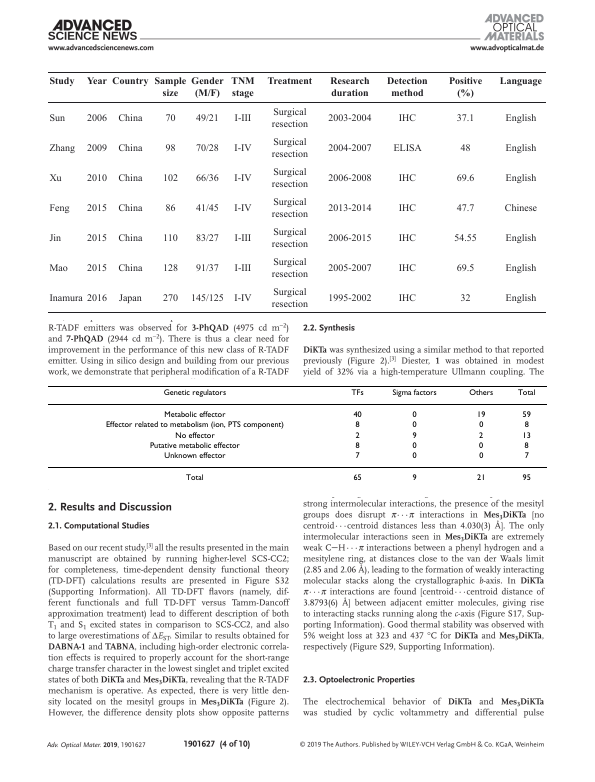borderless: (47, 71, 546, 312), (46, 384, 548, 491)
cell: (104, 421, 284, 431), (386, 77, 428, 100), (329, 77, 370, 100), (270, 137, 309, 161), (148, 441, 240, 451), (270, 108, 309, 131), (270, 167, 309, 190), (270, 197, 309, 220), (270, 227, 309, 250), (270, 257, 309, 280), (270, 287, 309, 310), (448, 77, 483, 100), (153, 77, 187, 100), (190, 77, 224, 100), (162, 388, 227, 398), (230, 77, 255, 100), (163, 411, 226, 420), (163, 452, 226, 461), (327, 143, 372, 155), (266, 77, 313, 88), (498, 77, 543, 88), (327, 114, 372, 125), (327, 173, 372, 184), (327, 203, 372, 214), (327, 233, 372, 244), (327, 263, 372, 274), (327, 293, 372, 304), (391, 388, 437, 398), (111, 77, 149, 88), (174, 431, 215, 441), (504, 143, 537, 155), (503, 203, 538, 214), (48, 293, 83, 304), (190, 293, 224, 304), (504, 114, 537, 125), (504, 173, 537, 184), (504, 233, 537, 244), (504, 263, 537, 274), (504, 293, 537, 304), (392, 143, 422, 155), (48, 143, 76, 155), (117, 143, 143, 155), (48, 77, 75, 88), (195, 143, 219, 155), (117, 114, 143, 125), (117, 173, 143, 184), (117, 203, 143, 214), (117, 233, 143, 244), (117, 263, 143, 274), (195, 114, 219, 125), (86, 143, 108, 155), (195, 173, 219, 184), (195, 203, 219, 214), (195, 233, 219, 244), (453, 233, 477, 244), (195, 263, 219, 274), (118, 293, 142, 304), (468, 388, 494, 398), (86, 77, 108, 88), (85, 114, 107, 125), (85, 173, 107, 184), (48, 203, 70, 214), (86, 203, 108, 214), (86, 233, 108, 244), (86, 263, 108, 274), (86, 293, 108, 304), (233, 143, 252, 155), (397, 114, 417, 125), (455, 114, 475, 125), (397, 173, 417, 184), (455, 173, 475, 184), (397, 203, 417, 214), (455, 203, 475, 214), (397, 233, 417, 244), (48, 263, 68, 274), (397, 263, 417, 274), (455, 263, 475, 274), (397, 293, 417, 304), (233, 114, 252, 125), (233, 173, 252, 184), (233, 203, 252, 214), (233, 233, 252, 244), (233, 263, 252, 274), (233, 293, 252, 304), (516, 388, 536, 398), (48, 114, 66, 125), (185, 474, 204, 484), (162, 173, 179, 184), (162, 263, 179, 274), (162, 293, 179, 304), (162, 233, 178, 244), (48, 173, 62, 184), (48, 233, 62, 244), (164, 143, 176, 155), (459, 143, 471, 155), (350, 388, 364, 398), (164, 114, 176, 125), (164, 203, 176, 214), (459, 293, 471, 304), (521, 431, 531, 441), (352, 474, 362, 484), (476, 474, 486, 484), (521, 474, 531, 484), (352, 411, 362, 420), (476, 411, 486, 420), (521, 411, 531, 420), (354, 421, 360, 431), (411, 421, 417, 431), (478, 421, 484, 431), (523, 421, 529, 431), (354, 431, 360, 441), (411, 431, 417, 441), (478, 431, 484, 441), (354, 441, 360, 451), (411, 441, 417, 451), (478, 441, 484, 451), (523, 441, 529, 451), (411, 474, 417, 484), (411, 411, 417, 420), (354, 452, 360, 461), (411, 452, 417, 461), (478, 452, 484, 461), (523, 452, 529, 461)
